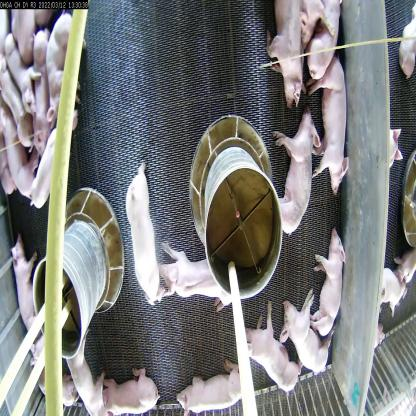Pig: (38, 13, 98, 145), (120, 158, 163, 306), (261, 0, 317, 113), (311, 50, 351, 198), (244, 307, 308, 399), (276, 108, 320, 241), (273, 288, 338, 376), (156, 241, 236, 309), (26, 125, 77, 226), (174, 365, 260, 415), (7, 235, 48, 336), (312, 229, 350, 337), (303, 0, 347, 88), (5, 30, 50, 108), (90, 363, 158, 412), (30, 31, 58, 149), (66, 339, 108, 416), (0, 53, 19, 89)
